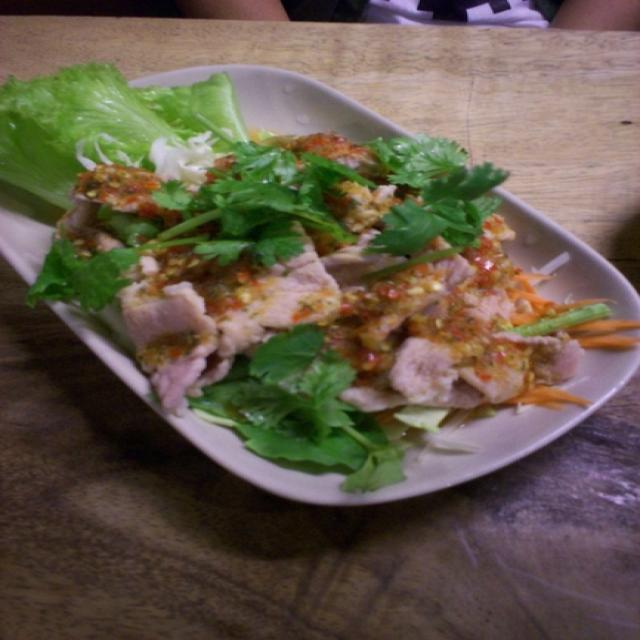猪肉菜式: (36, 31, 620, 595)
